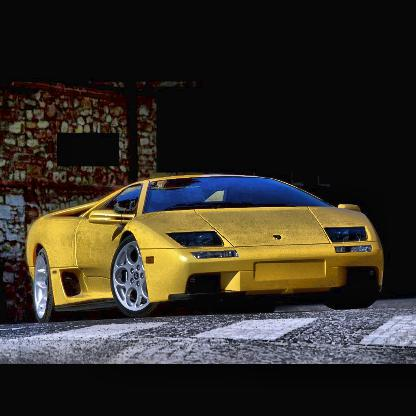Lamborghini Diablo Coupe 2001: (28, 177, 387, 323)
